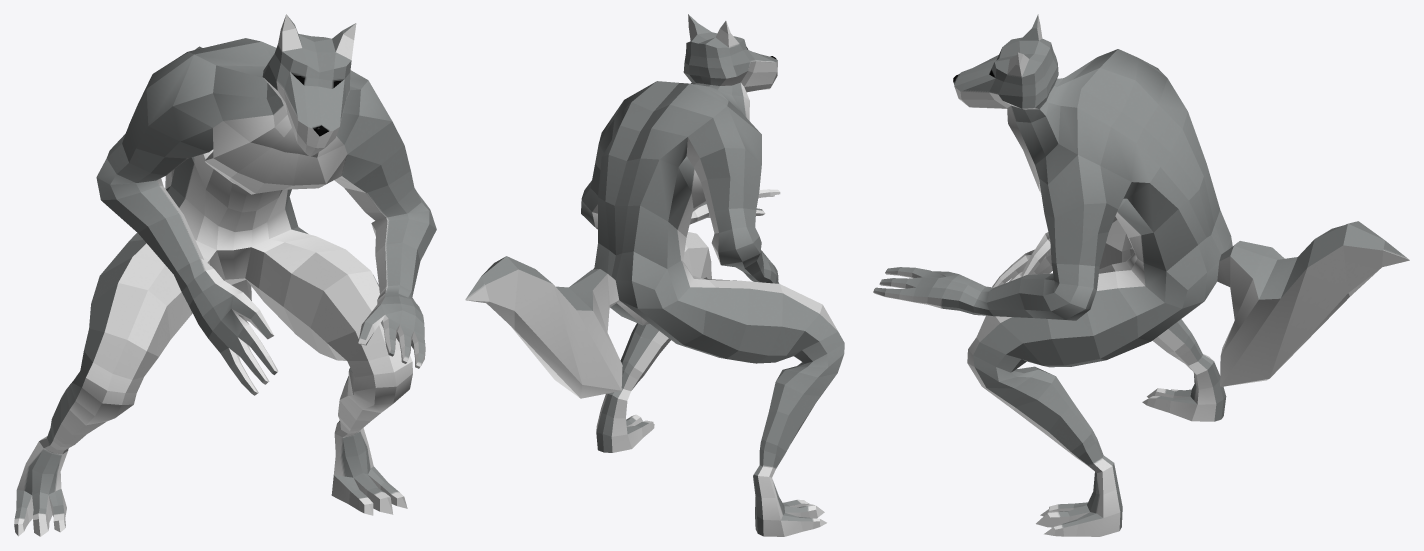
File: WolfAttack(97).obj
3 views of the same model, side by side, from view 1: azimuth 30°, elevation 25°; view 2: azimuth 150°, elevation 25°; view 3: azimuth 270°, elevation 25° (orthographic). The views are drawn at different scales.
Visible parts, largest first — view 1: Box001; view 2: Box001; view 3: Box001.
Part boxes in pixels (x1,y1,x2,y2): Box001: (14, 14, 436, 536); Box001: (465, 14, 844, 536); Box001: (873, 14, 1409, 536).
Bounding box in the file's own units: 83.74 × 118 × 123.
